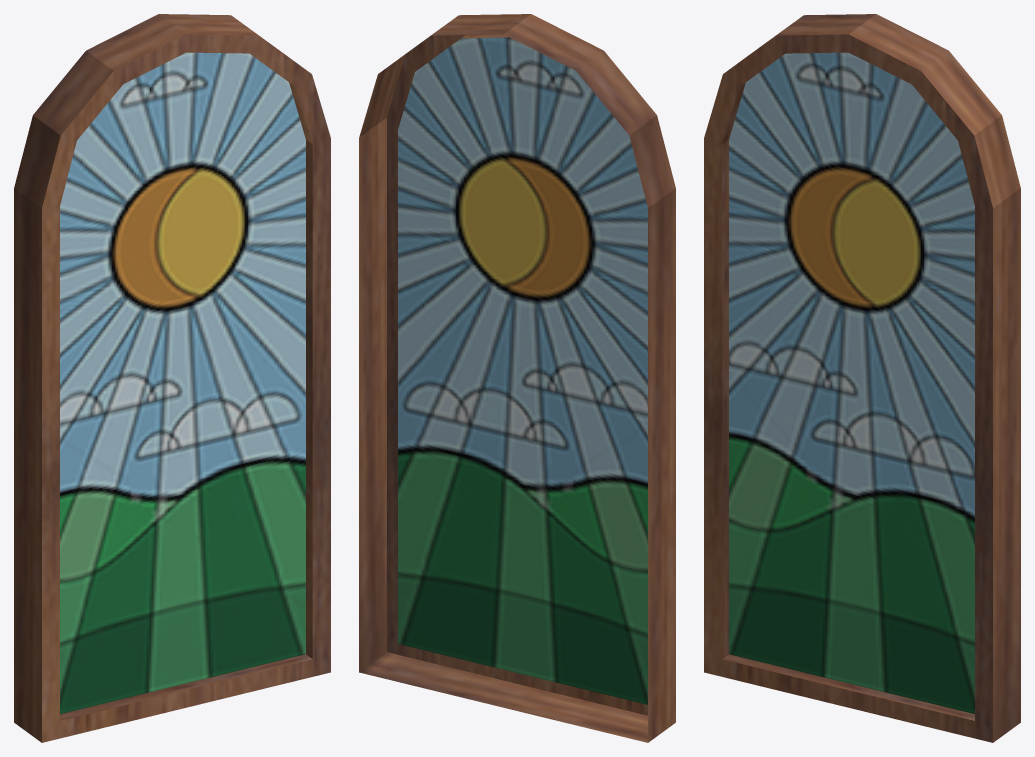
Rendered from Ventana_v1_Prop.fbx.
3 renders of one model, left to right at view 1: azimuth 30°, elevation 25°; view 2: azimuth 150°, elevation 25°; view 3: azimuth 330°, elevation 25°, orthographic.
Parts seen in each view (by area): view 1: Ventana_v2; view 2: Ventana_v2; view 3: Ventana_v2.
Part boxes in pixels (<box>): Ventana_v2: <box>14,14,330,742</box>; Ventana_v2: <box>359,14,675,742</box>; Ventana_v2: <box>704,14,1020,742</box>.
Size of the model in its own units: 89.83 by 200 by 14.97.
1 material, 1 textured.
